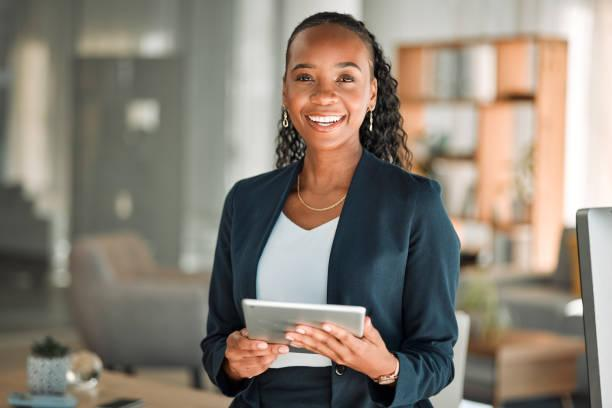no_goggle: (288, 61, 374, 91)
no_helmet: (279, 8, 394, 73)
no_vest: (199, 149, 468, 408)
